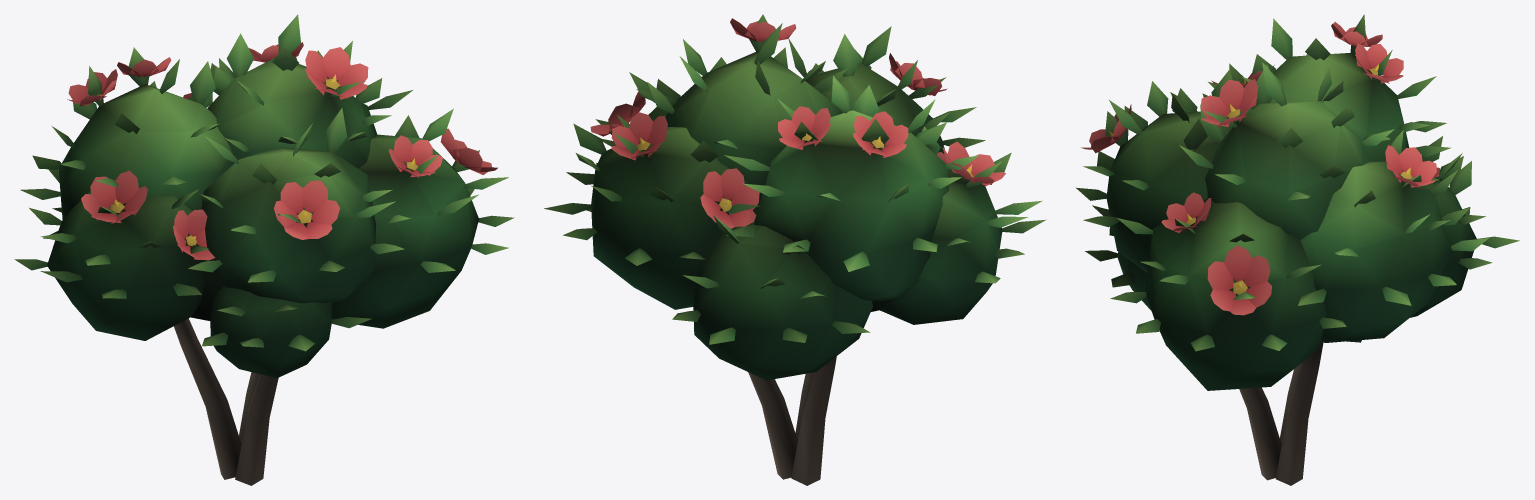
File: deco-shrub-v2.glb
3 renders of one model, left to right at view 1: azimuth 30°, elevation 25°; view 2: azimuth 150°, elevation 25°; view 3: azimuth 270°, elevation 25°, orthographic. The views are drawn at different scales.
Parts seen in each view (by area): view 1: 0_shrub; view 2: 0_shrub; view 3: 0_shrub.
Boxes of the visible parts, bbox=[...] form: 0_shrub: bbox=[14, 14, 514, 485]; 0_shrub: bbox=[544, 14, 1046, 485]; 0_shrub: bbox=[1076, 14, 1519, 485].
Size of the model in its own units: 1.54 by 1.41 by 1.33.
